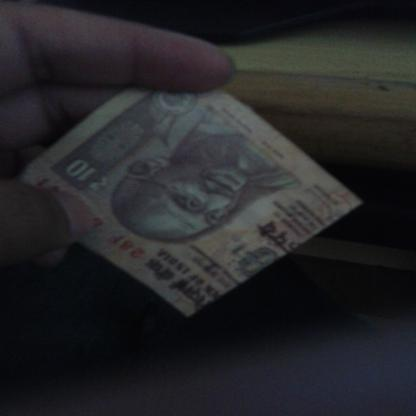Old10Front: (24, 87, 364, 318)
